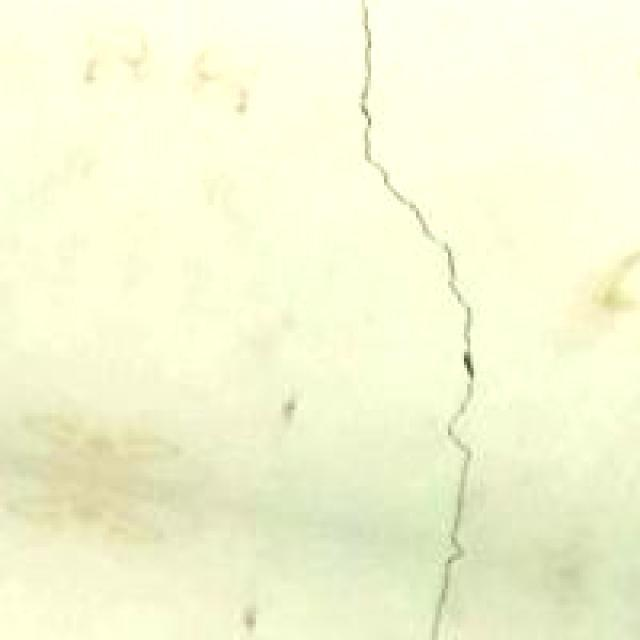minor crack: (440, 248, 472, 409)
moderate crack: (3, 408, 183, 541), (245, 376, 298, 633), (552, 242, 640, 350), (81, 29, 150, 84), (190, 48, 249, 111)
severe crack: (358, 14, 481, 631), (356, 0, 373, 122)
